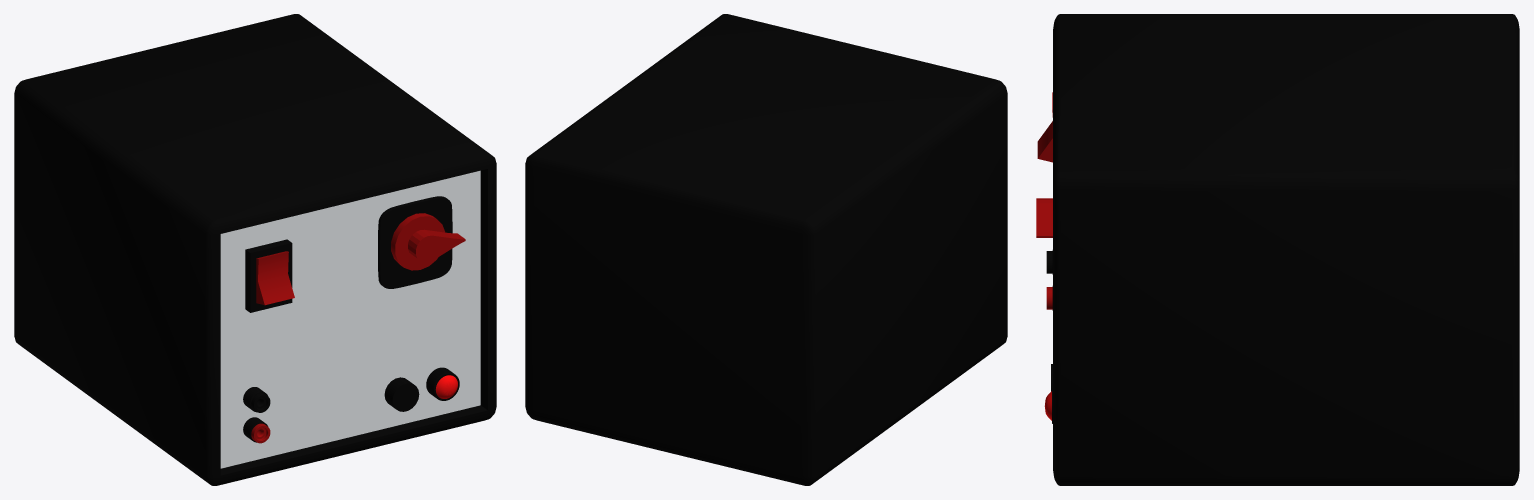
The model's file is PowerUnitHigh.fbx.
3 views of the same model, side by side, from view 1: azimuth 30°, elevation 25°; view 2: azimuth 150°, elevation 25°; view 3: azimuth 270°, elevation 25° (orthographic). The views are drawn at different scales.
Visible parts, largest first — view 1: ChamferBox006, Box008, Cylinder019, Box007, Box006, Cylinder015, Cylinder016, Cylinder017, Cylinder018; view 2: ChamferBox006; view 3: ChamferBox006, Cylinder019.
Part boxes in pixels (box(x1,y1,x2,y2)): ChamferBox006: box(14, 14, 496, 485); Box008: box(378, 196, 452, 288); Cylinder019: box(391, 213, 465, 270); Box007: box(256, 251, 294, 305); Box006: box(245, 239, 292, 312); Cylinder015: box(384, 377, 419, 411); Cylinder016: box(426, 367, 459, 400); Cylinder017: box(243, 417, 270, 443); Cylinder018: box(243, 387, 270, 412); ChamferBox006: box(525, 14, 1007, 485); ChamferBox006: box(1053, 14, 1519, 485); Cylinder019: box(1036, 198, 1052, 237).
Size of the model in its own units: 39.3 by 34.38 by 47.83.
